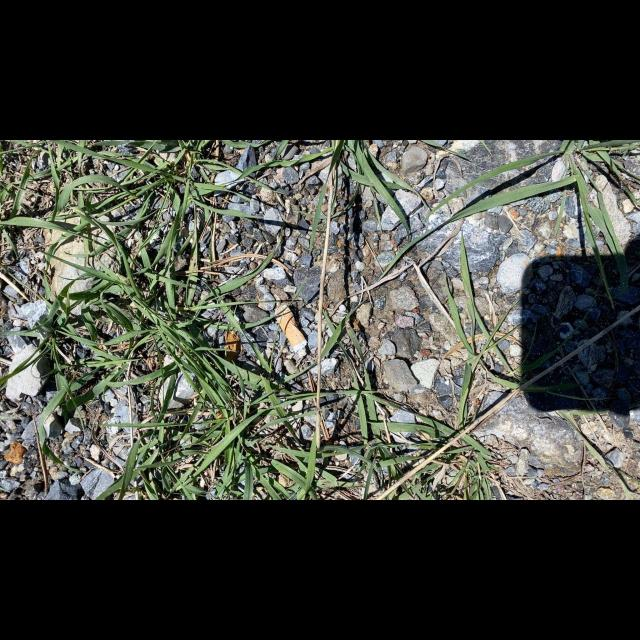cigarette: (274, 304, 308, 352)
